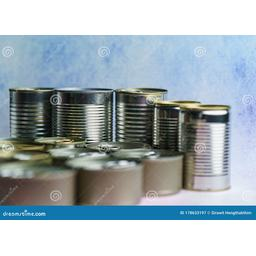metal: (172, 97, 233, 193), (66, 150, 151, 211), (51, 75, 121, 148), (141, 100, 207, 162), (6, 74, 65, 143), (111, 72, 165, 147)
